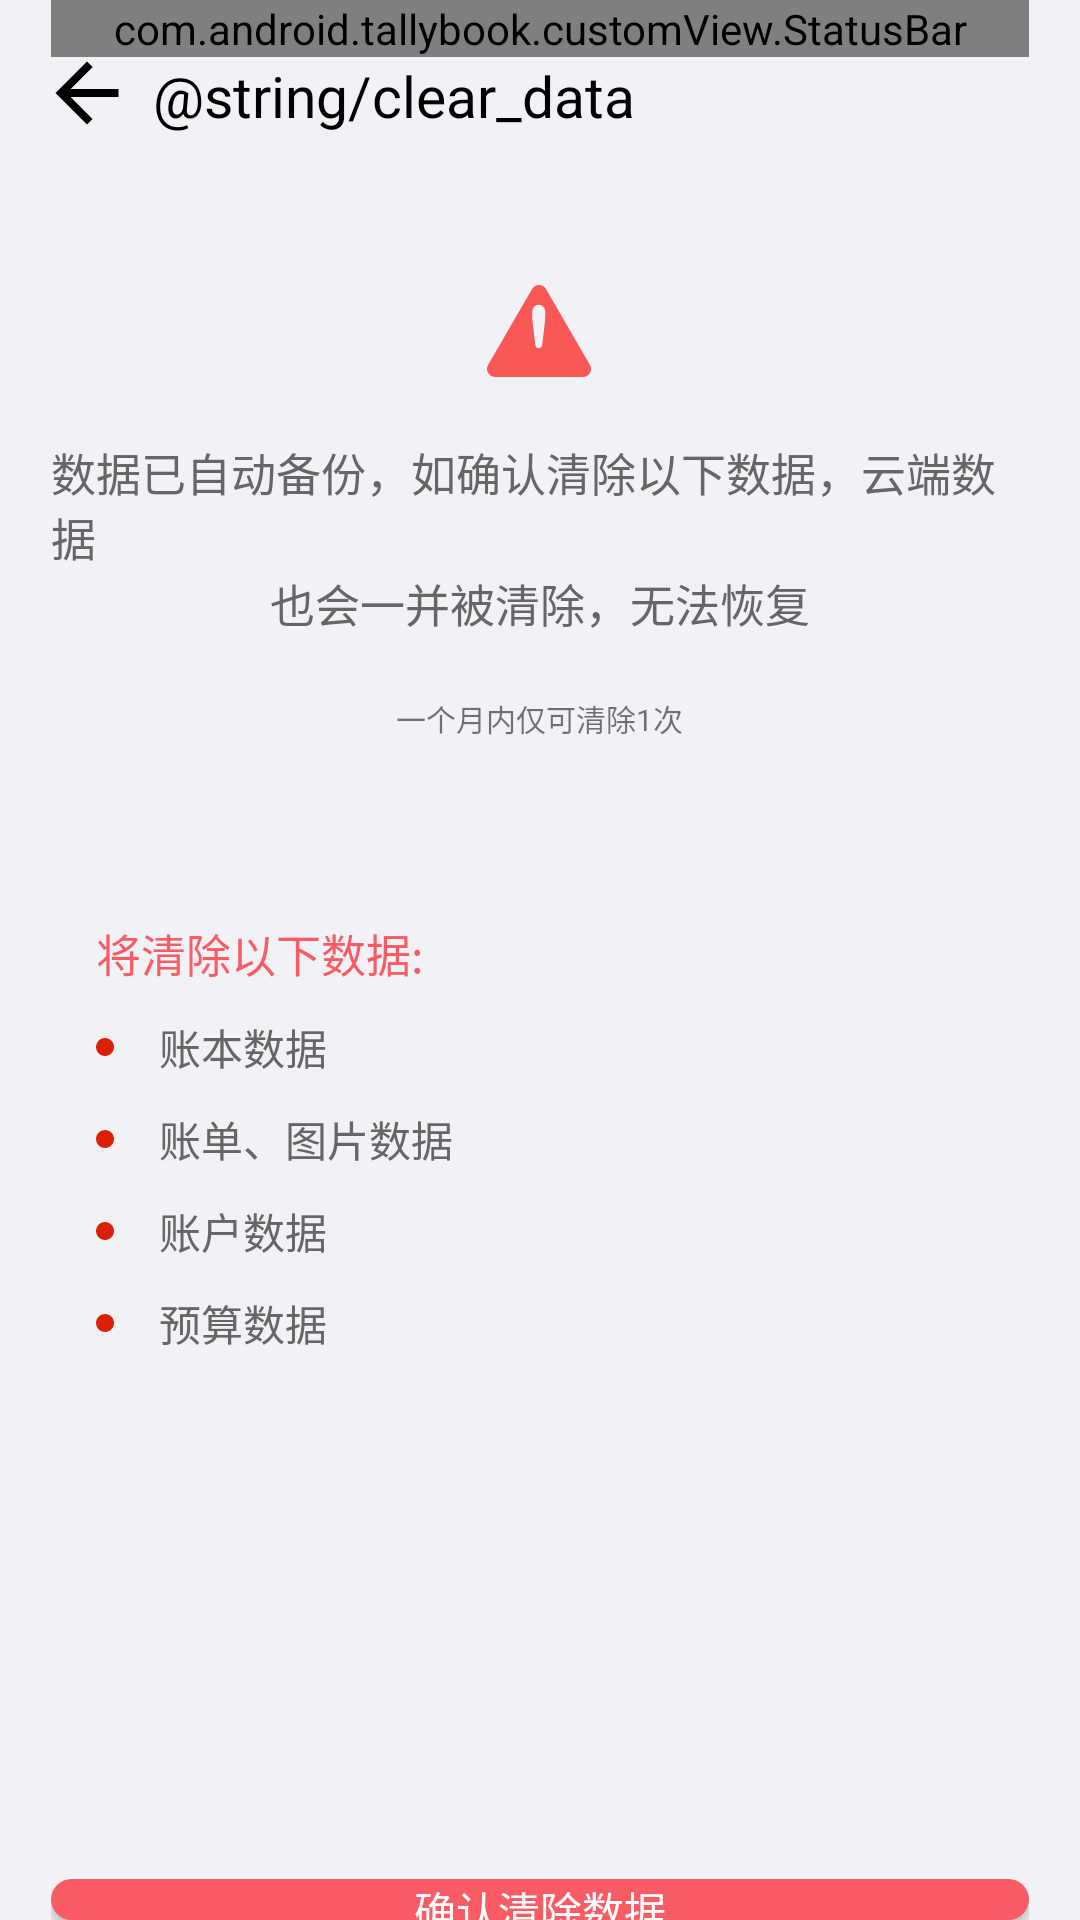

Named icons in this screenshot (1080 × 1920) and their centers, point (x, y):
back: point (87, 93)
